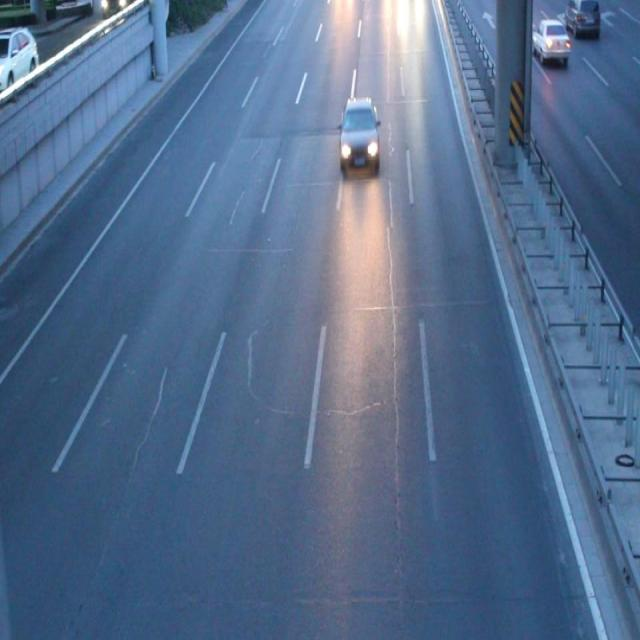car: (337, 97, 379, 171)
